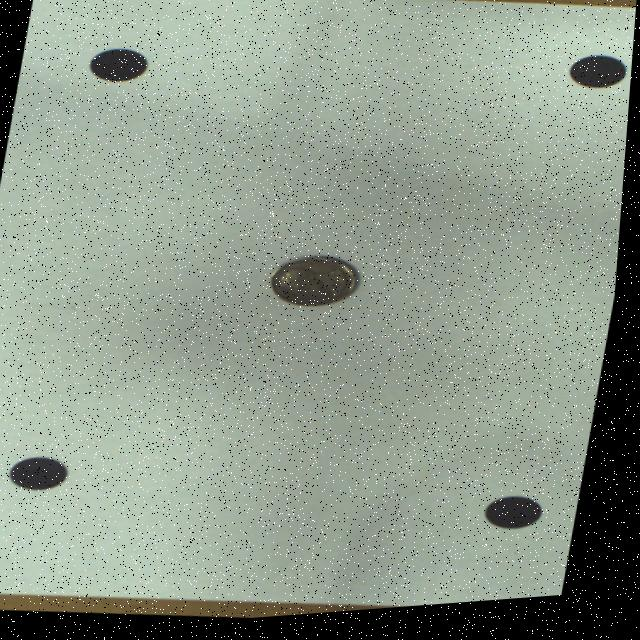head5bath: (275, 261, 363, 311)
space: (90, 50, 148, 84), (17, 457, 74, 491), (492, 504, 550, 537), (571, 64, 628, 97)
